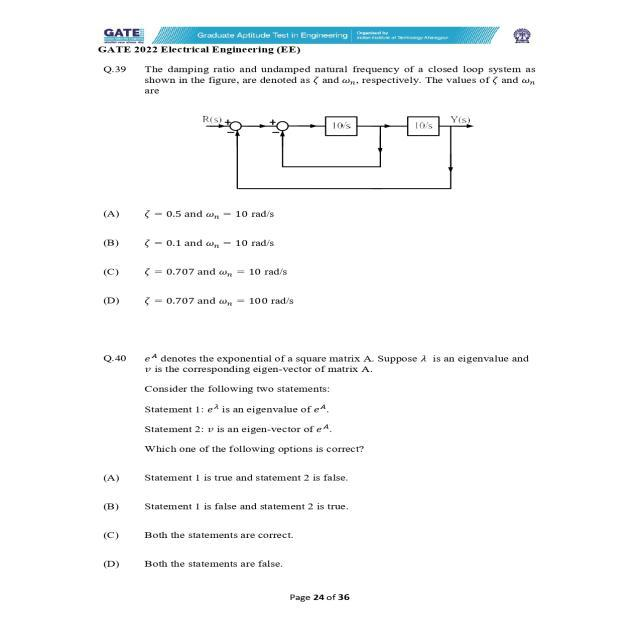Answer_Block: (85, 193, 539, 311), (88, 456, 540, 568)
Question_Answer_Block: (85, 62, 538, 310), (87, 352, 539, 568)
Question_Block: (83, 64, 540, 194), (82, 352, 539, 455)
Question_Paper_Area: (88, 41, 540, 571)
